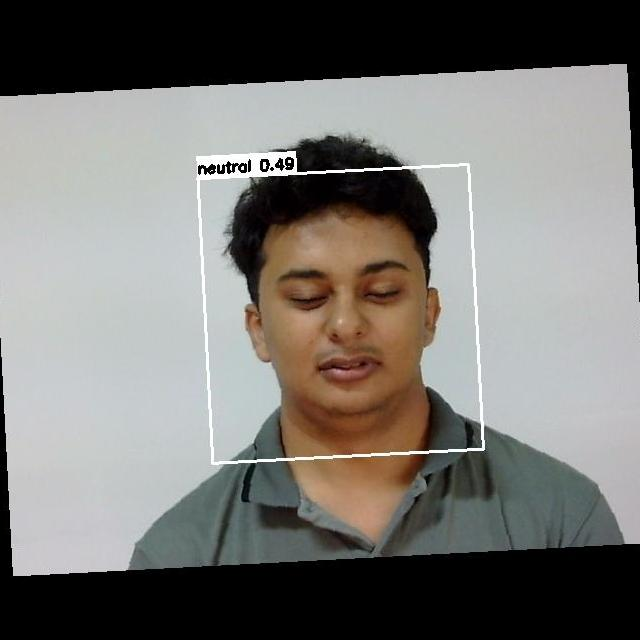Fear: (246, 251, 441, 410)
